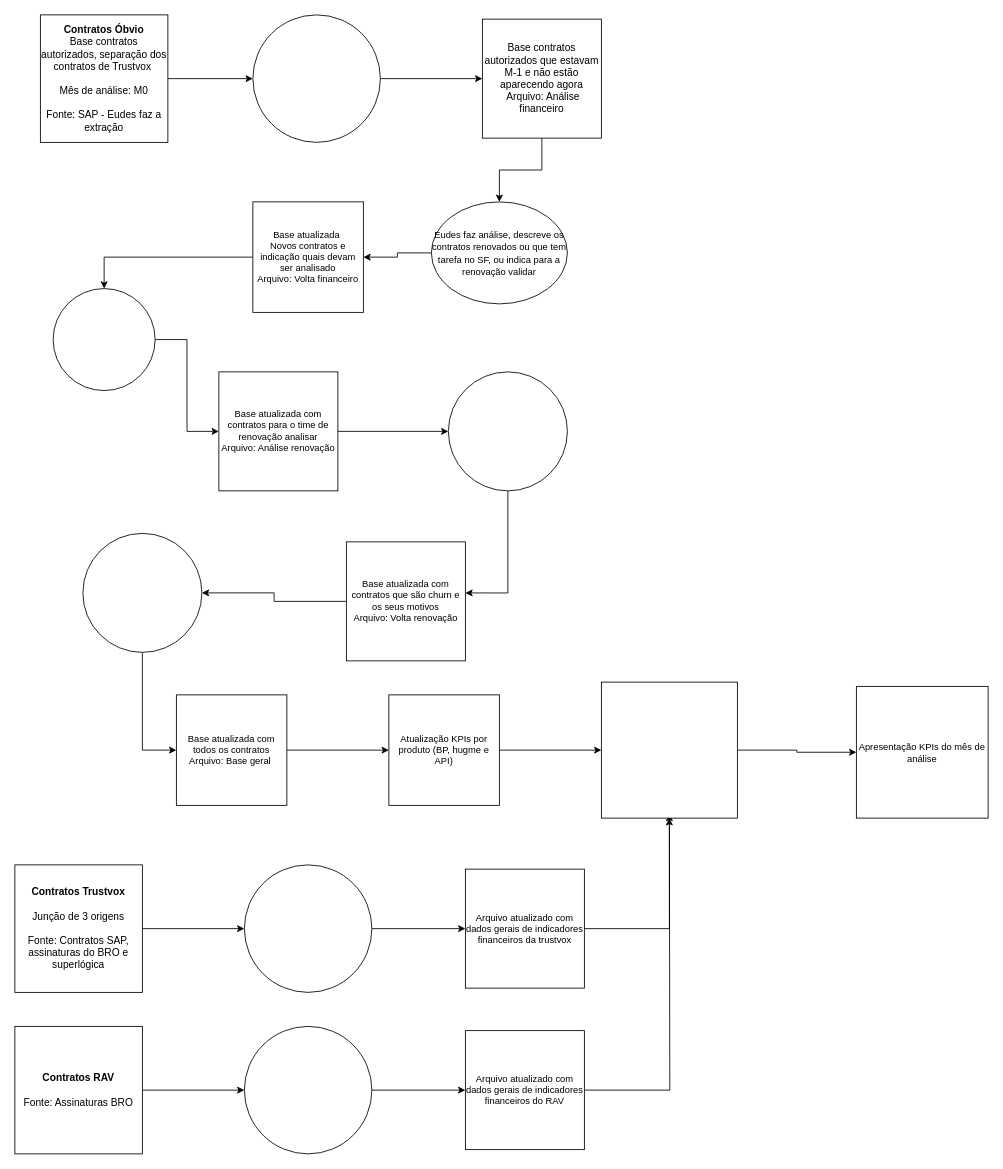
The diagram is 1003 pixels wide and 1169 high, and some of its shapes have lost their labels. Here are the shapes that lost their labels. From the top down, the centre of each, then its label:
the point at 316,78: Comparativo com base master Arquivo: Base Geral
the point at 103,339: Comparativo novamente com base geral Arquivo atualizado: Base Geral
the point at 507,431: Time de renovação analise e devolve o que é churn ou não
the point at 142,592: Última atualização com todos os contratos e adição dos em "NEG"
the point at 669,749: Principais KPIs por produto
the point at 308,928: Análise comparativa com base geral de trustvox
the point at 308,1090: Análise comparativa com base geral do RAV
